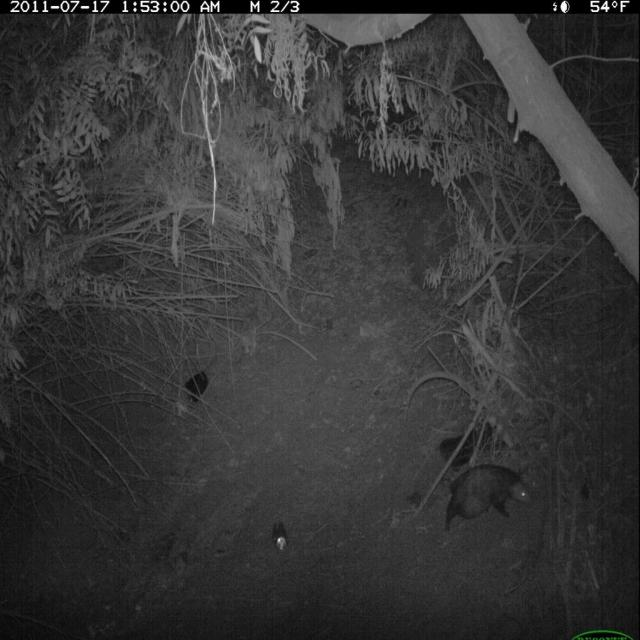opossum: (397, 459, 540, 549)
